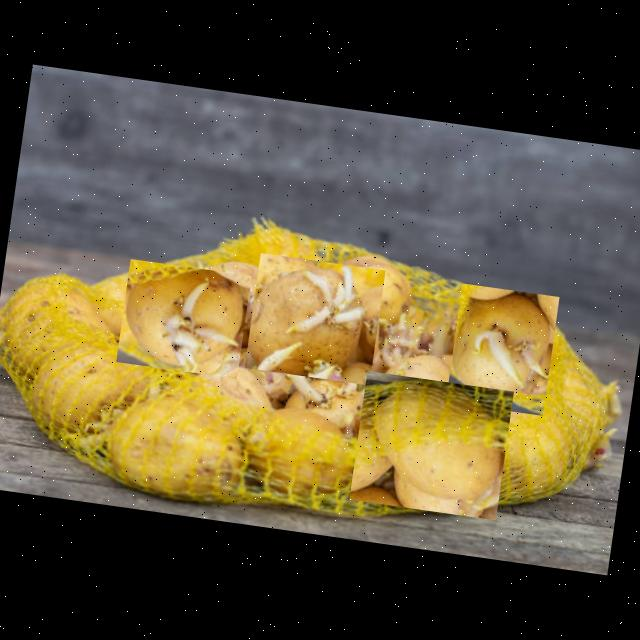Sprouted potato: (349, 372, 514, 520), (244, 254, 386, 386), (116, 259, 252, 379), (446, 284, 560, 416)
